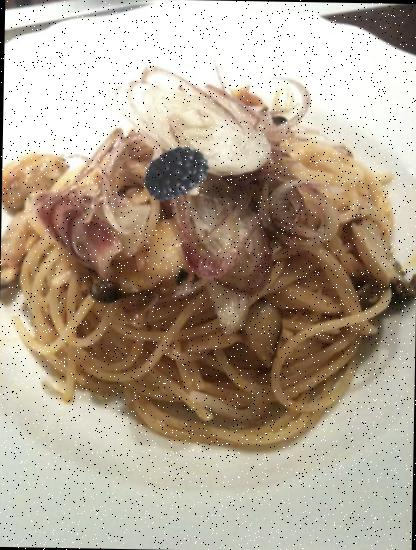Mulberry: (142, 139, 210, 207)
